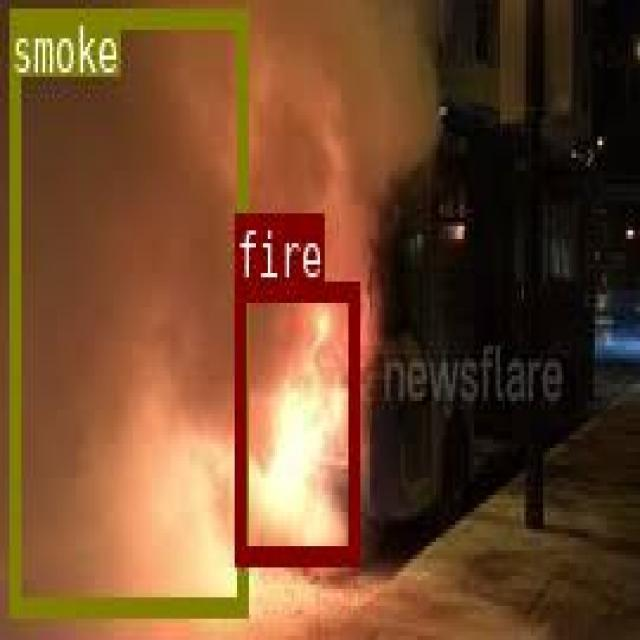fire: (234, 278, 357, 560)
smoke: (9, 5, 245, 612)
